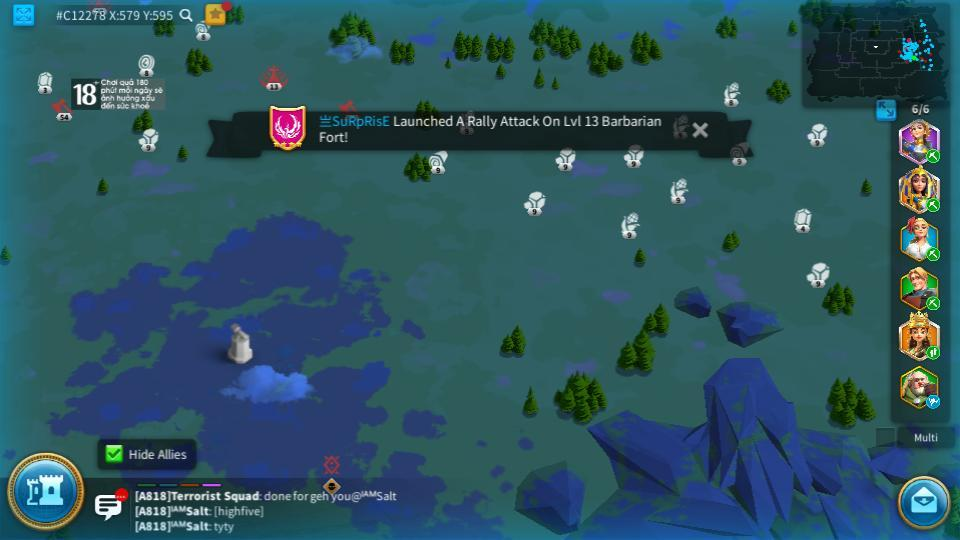gem-z-out: (33, 71, 54, 93), (793, 207, 812, 230)
march_idle: (925, 396, 942, 408)
march_marching: (925, 199, 941, 212), (925, 347, 941, 359), (925, 150, 941, 162), (925, 297, 942, 308)
